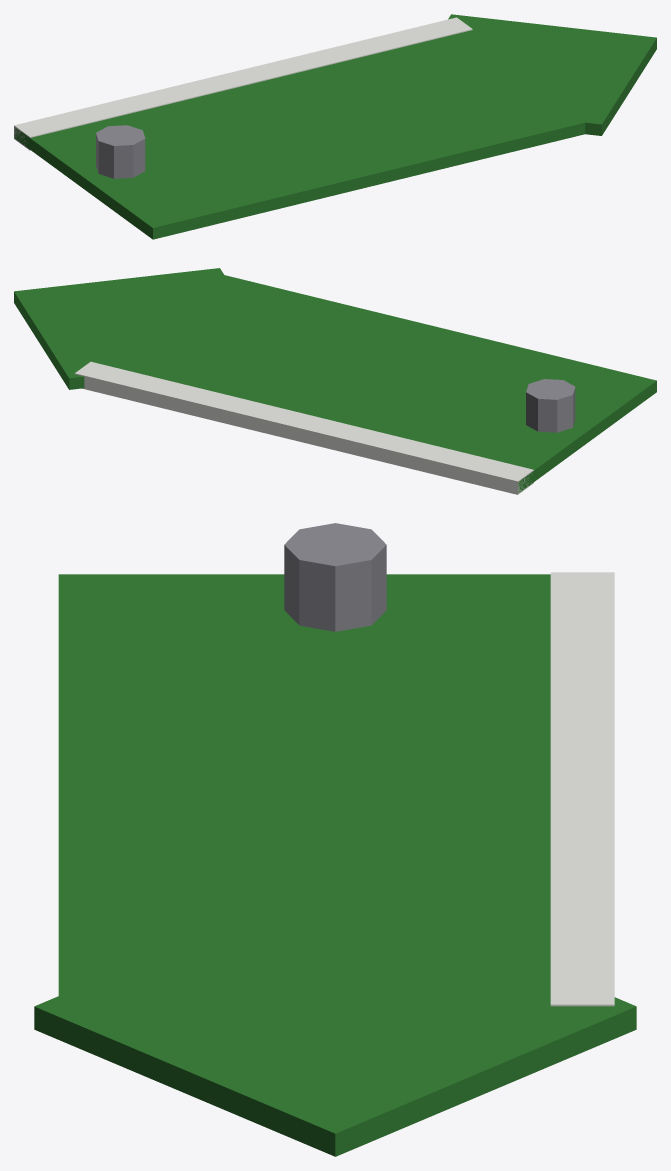
File: wooden handle sharpened road sign.glb
The picture shows the model from 3 angles, top to bottom: view 1: azimuth 30°, elevation 25°; view 2: azimuth 150°, elevation 25°; view 3: azimuth 270°, elevation 25°; orthographic projection. The views are drawn at different scales.
Visible parts, largest first — view 1: sharpened road sign; view 2: sharpened road sign; view 3: sharpened road sign.
Boxes of the visible parts, box(x1,y1,x2,y2) form: sharpened road sign: box(14, 14, 656, 239); sharpened road sign: box(14, 268, 656, 494); sharpened road sign: box(34, 523, 636, 1156).
Bounding box in the file's own units: 0.3107 × 0.0235 × 0.1414.
